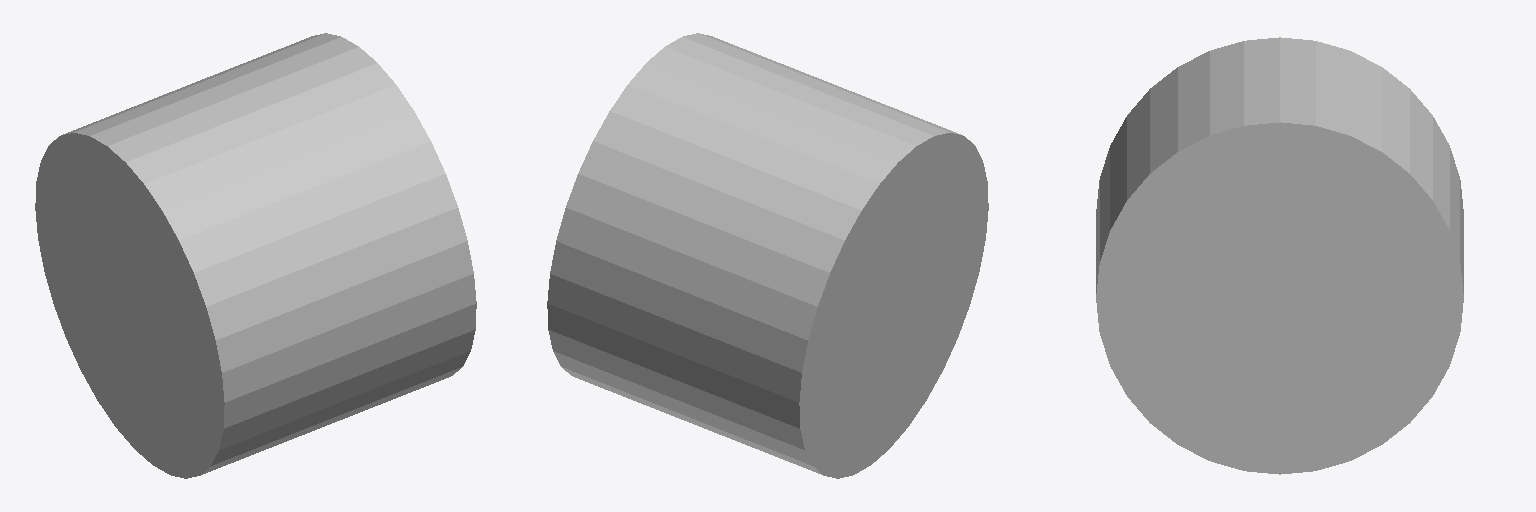
Rendered from drumsetV4_BigDrum_Hitbox.obj.
3 views of the same model, side by side, from view 1: azimuth 30°, elevation 25°; view 2: azimuth 150°, elevation 25°; view 3: azimuth 270°, elevation 25° (orthographic).
Parts seen in each view (by area): view 1: drumsetV4_BigDrum_Hitbox_Cylinder.007; view 2: drumsetV4_BigDrum_Hitbox_Cylinder.007; view 3: drumsetV4_BigDrum_Hitbox_Cylinder.007.
Boxes of the visible parts, box(x1,y1,x2,y2) form: drumsetV4_BigDrum_Hitbox_Cylinder.007: box(35, 33, 476, 478); drumsetV4_BigDrum_Hitbox_Cylinder.007: box(547, 33, 988, 478); drumsetV4_BigDrum_Hitbox_Cylinder.007: box(1096, 37, 1463, 474).
Bounding box in the file's own units: 1.87 × 2.21 × 2.